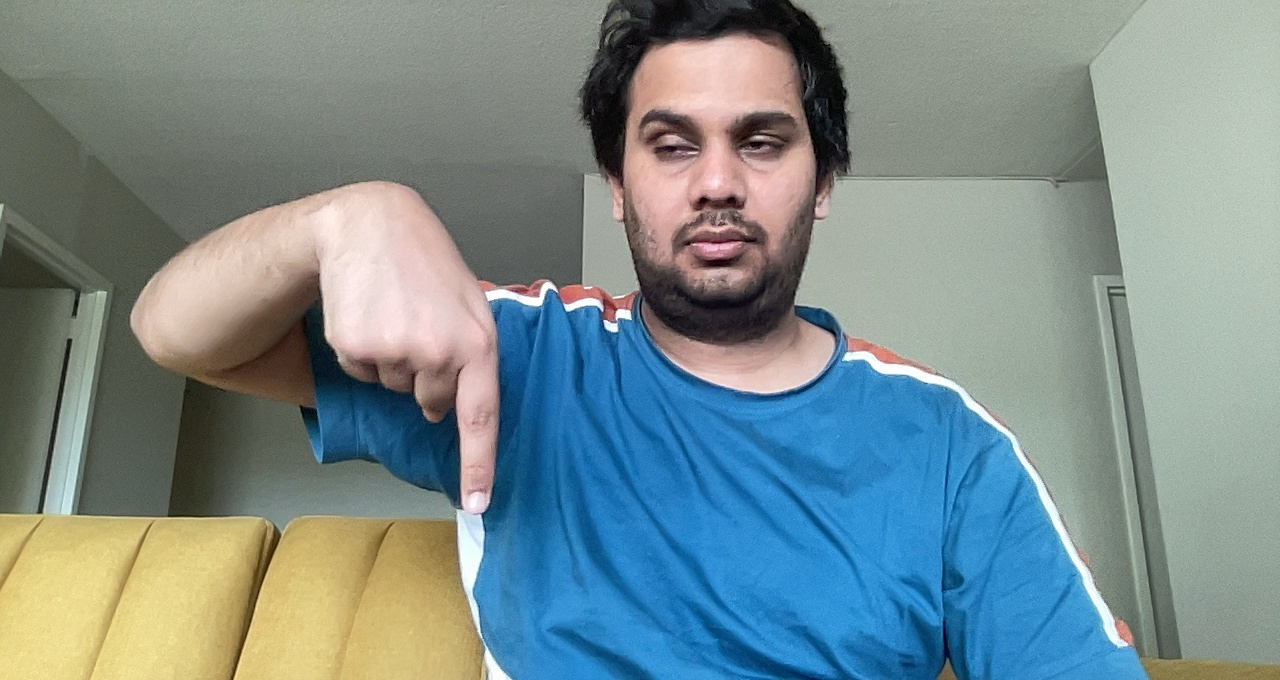fingerdown: (309, 178, 506, 522)
